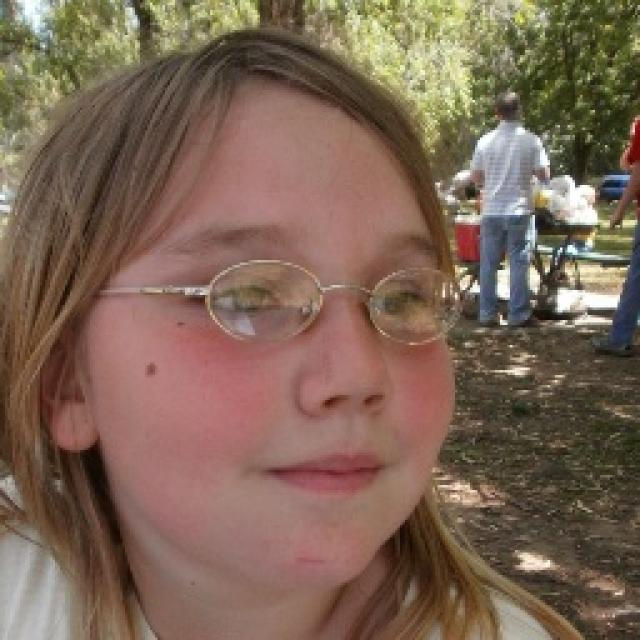earlobe: (54, 402, 99, 455)
eye: (194, 282, 283, 315), (371, 283, 429, 320)
nose: (307, 399, 390, 452)
wholeear: (30, 303, 99, 455)
